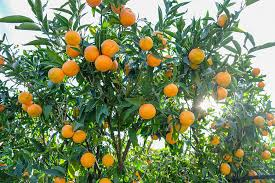orange: (139, 101, 160, 121), (93, 54, 114, 74), (100, 37, 121, 56), (61, 57, 79, 79), (176, 110, 199, 127), (45, 64, 64, 84), (78, 151, 98, 169), (188, 47, 206, 64), (84, 45, 100, 63), (70, 128, 87, 143), (59, 123, 74, 139), (164, 82, 180, 96)
